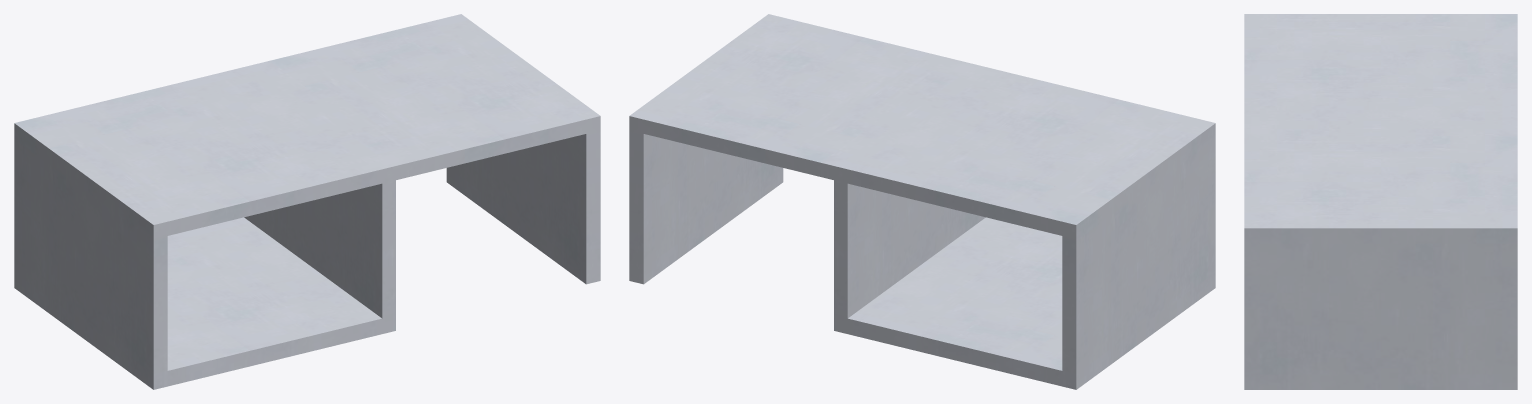
Rendered from Table_19-col.glb.
3 views of the same model, side by side, from view 1: azimuth 30°, elevation 25°; view 2: azimuth 150°, elevation 25°; view 3: azimuth 270°, elevation 25° (orthographic).
Visible parts, largest first — view 1: Table_19-col; view 2: Table_19-col; view 3: Table_19-col.
Part boxes in pixels (bbox=[...]): Table_19-col: bbox=[14, 14, 600, 389]; Table_19-col: bbox=[629, 14, 1215, 389]; Table_19-col: bbox=[1244, 14, 1517, 389].
Bounding box in the file's own units: 1.9 × 0.6683 × 1.02.
1 material, 1 textured.
